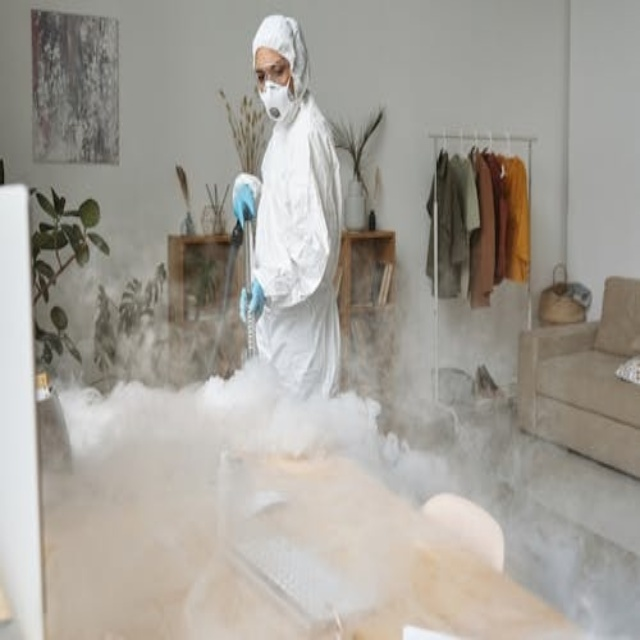Gafas: (255, 62, 289, 86)
Guantes: (239, 277, 266, 323), (232, 180, 257, 228)
Mascara: (260, 77, 295, 122)
